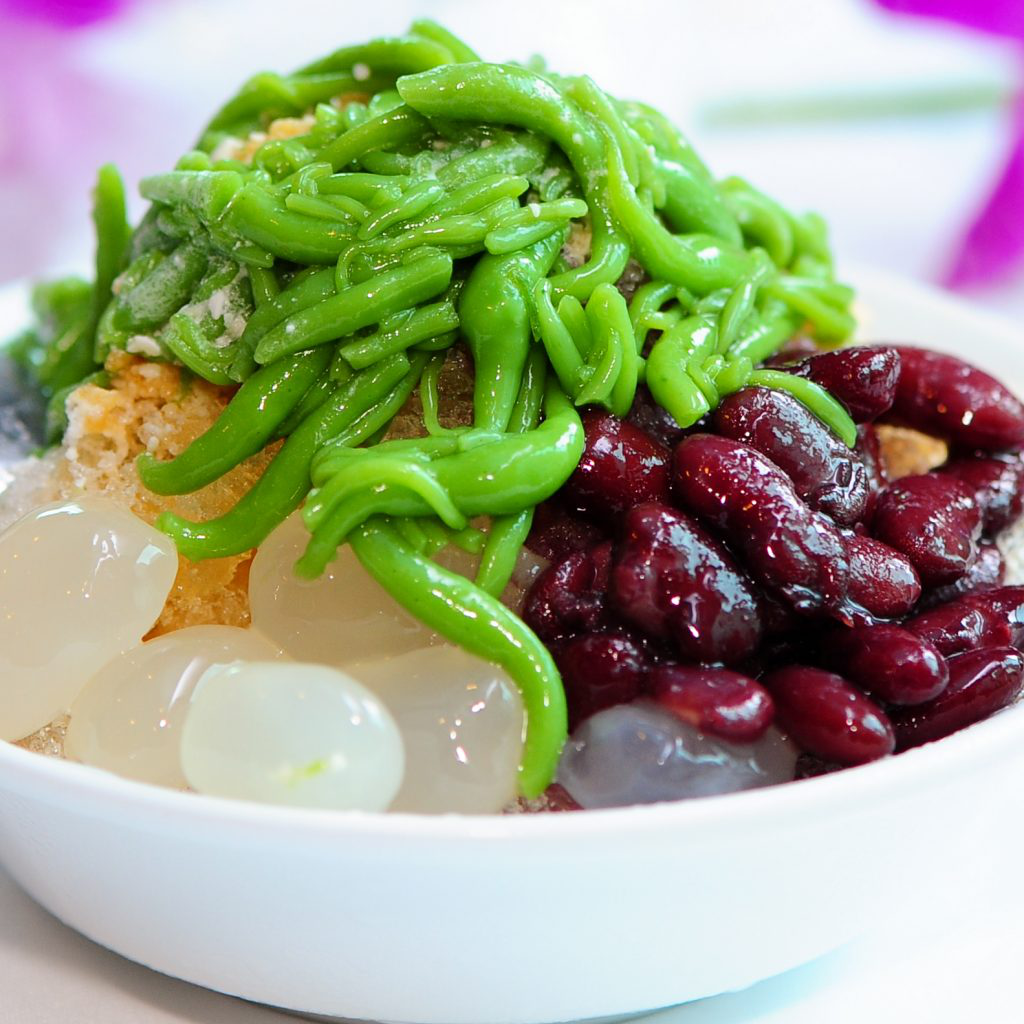Chendol: (10, 25, 1023, 829)
